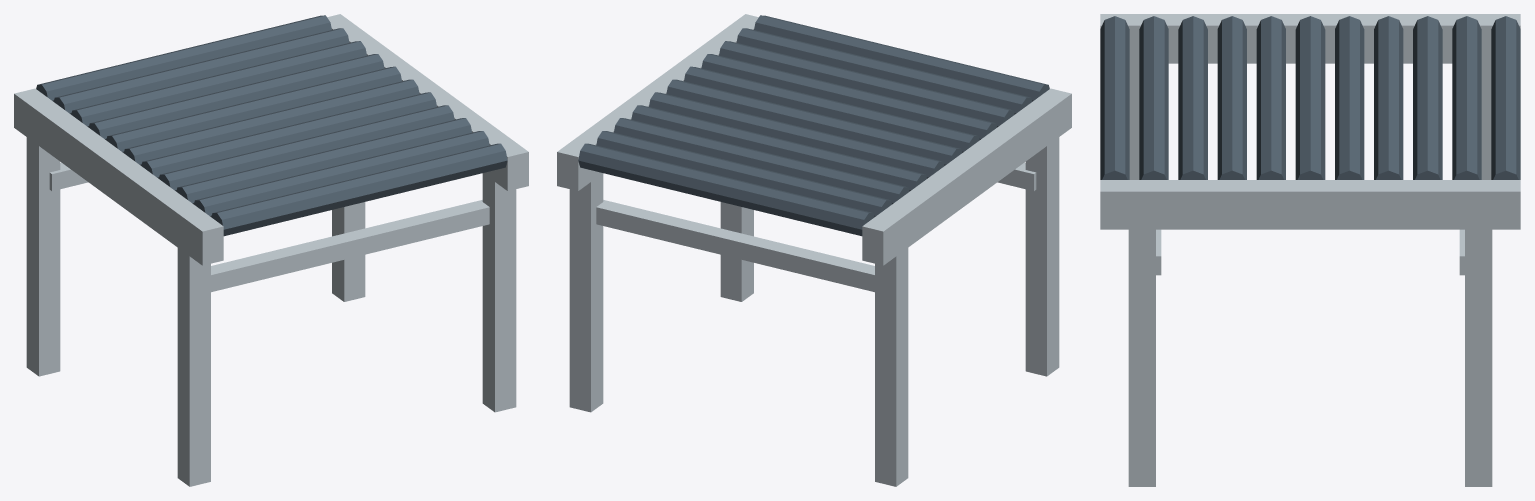
Rendered from continuous-roller.glb.
3 renders of one model, left to right at view 1: azimuth 30°, elevation 25°; view 2: azimuth 150°, elevation 25°; view 3: azimuth 270°, elevation 25°, orthographic. The views are drawn at different scales.
Visible parts, largest first — view 1: surface_1, frame_0; view 2: surface_1, frame_0; view 3: surface_1, frame_0.
Part boxes in pixels (bbox=[...]): surface_1: bbox=[36, 15, 507, 236]; frame_0: bbox=[14, 14, 528, 486]; surface_1: bbox=[578, 15, 1049, 236]; frame_0: bbox=[557, 14, 1071, 486]; surface_1: bbox=[1100, 16, 1520, 179]; frame_0: bbox=[1100, 14, 1520, 486].
Bounding box in the file's own units: 1 × 0.8 × 1.
